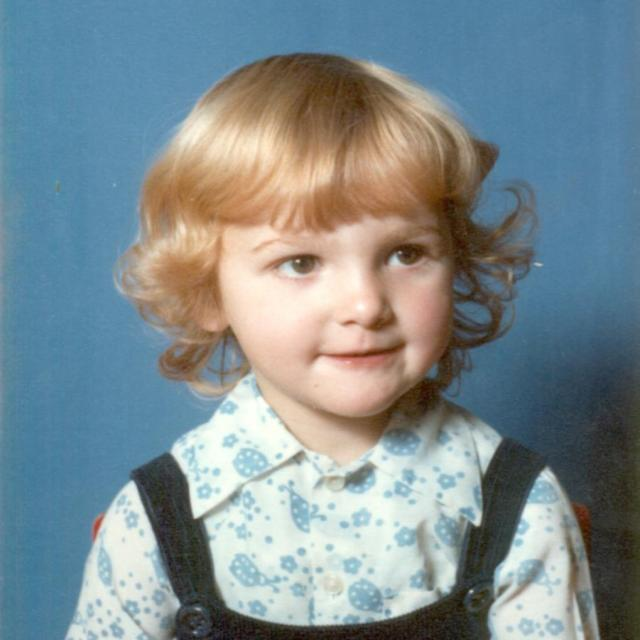no-glass: (261, 238, 432, 282)
